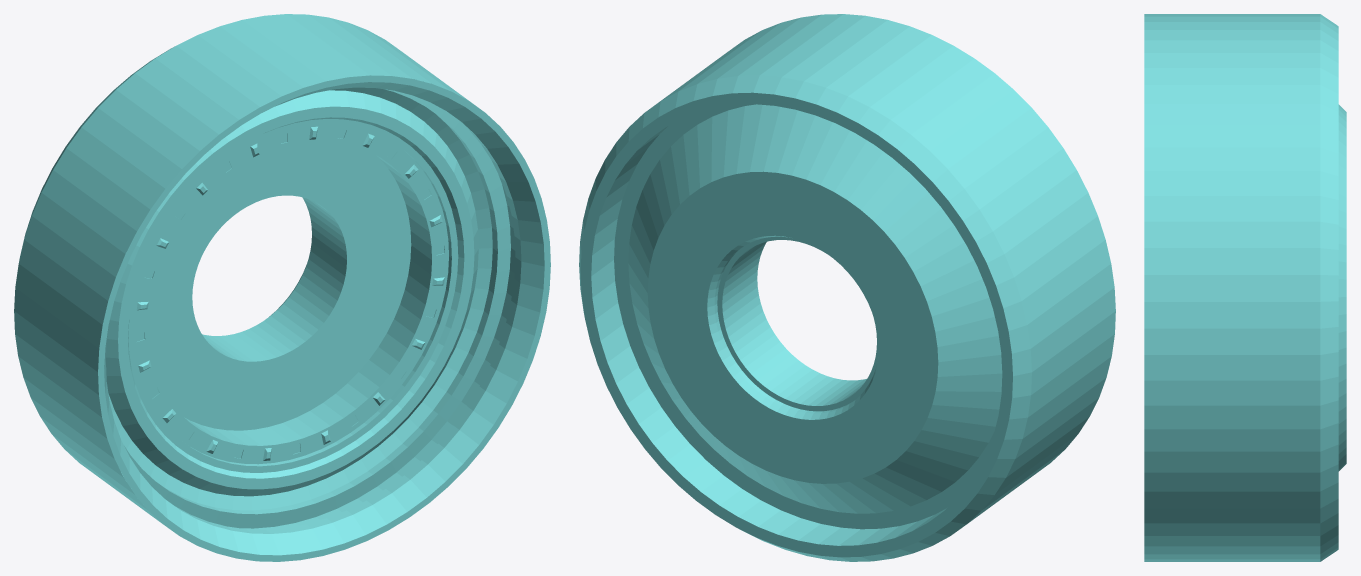
The picture shows the model from 3 angles, left to right: view 1: azimuth 30°, elevation 25°; view 2: azimuth 150°, elevation 25°; view 3: azimuth 270°, elevation 25°; orthographic projection. The views are drawn at different scales.
Visible parts, largest first — view 1: 688; view 2: 688; view 3: 688.
Part boxes in pixels (x1=…): 688: x1=14, y1=14, x2=550, y2=561; 688: x1=579, y1=14, x2=1115, y2=561; 688: x1=1144, y1=14, x2=1346, y2=561.
Bounding box in the file's own units: 1380 × 1380 × 509.
